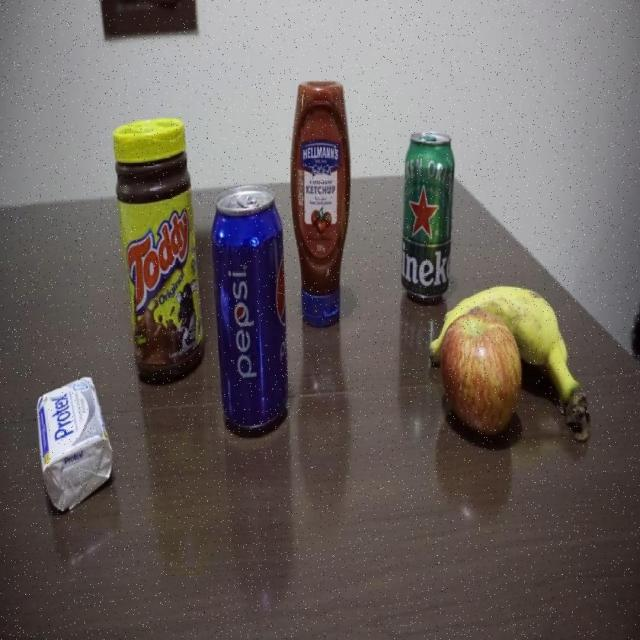Apple: (440, 311, 522, 448)
Banana: (522, 284, 590, 457)
BeerCan: (400, 129, 458, 311)
ChocolatePowder: (109, 118, 206, 386)
Ketchup: (289, 79, 350, 332)
Soap: (35, 375, 116, 517)
SodaCan: (209, 185, 293, 440)
